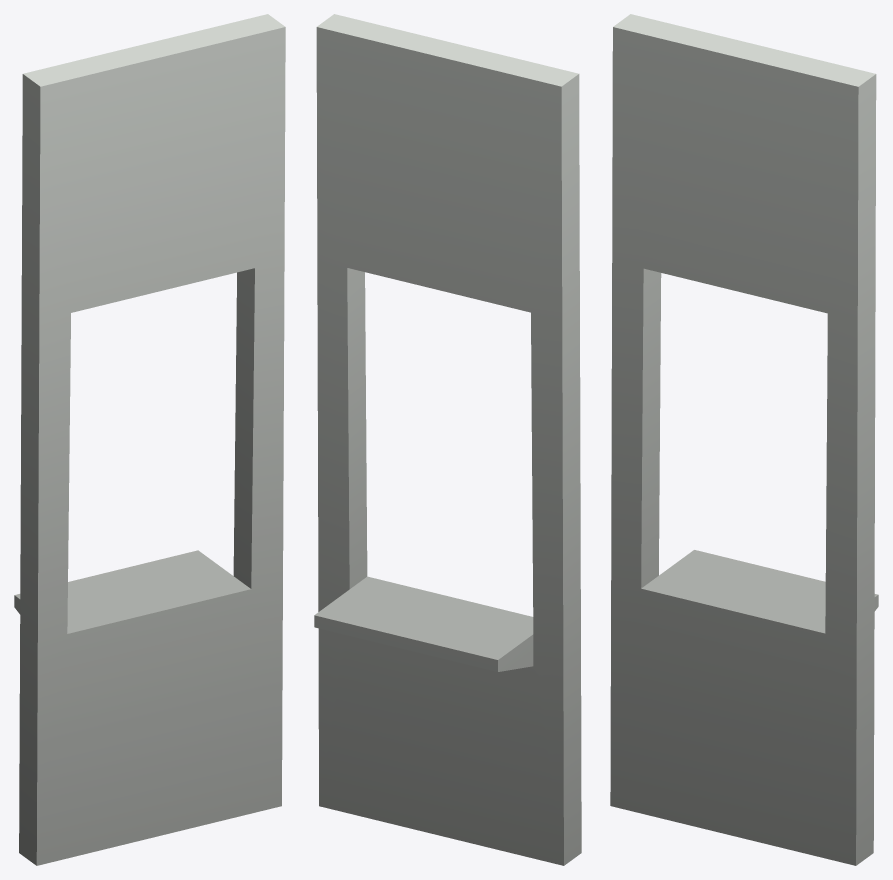
Rendered from Window_Straight_1x3.fbx.
3 renders of one model, left to right at view 1: azimuth 30°, elevation 25°; view 2: azimuth 150°, elevation 25°; view 3: azimuth 330°, elevation 25°, orthographic.
Parts seen in each view (by area): view 1: Window_Straight_1x3; view 2: Window_Straight_1x3; view 3: Window_Straight_1x3.
Boxes of the visible parts, <box> form: Window_Straight_1x3: <box>14,14,285,865</box>; Window_Straight_1x3: <box>314,14,581,865</box>; Window_Straight_1x3: <box>610,14,878,865</box>.
Size of the model in its own units: 101 by 304 by 37.95.
